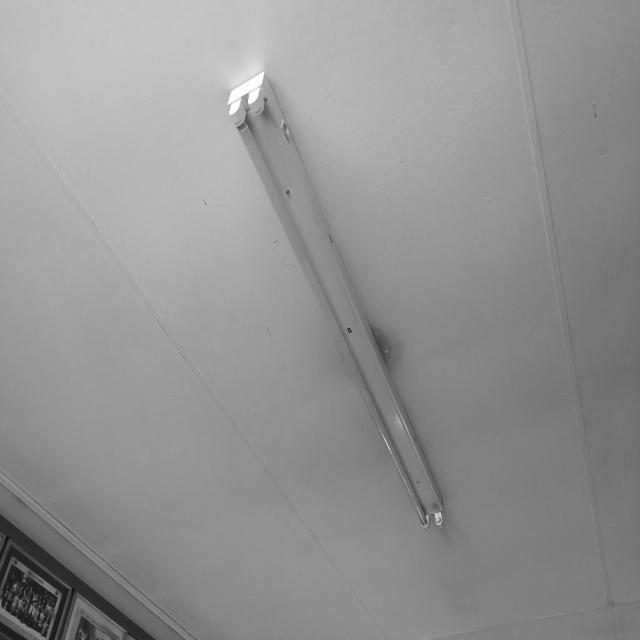light: (228, 70, 444, 530), (227, 70, 266, 128)
